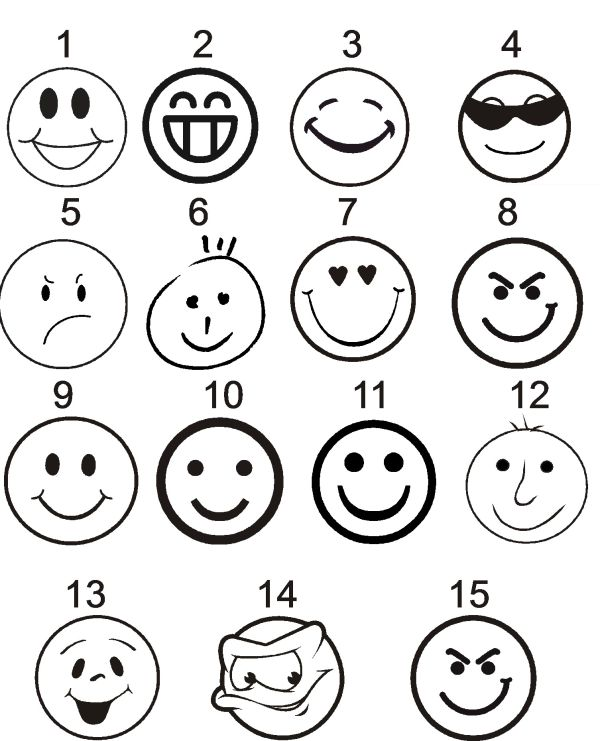feliz: (283, 236, 440, 369), (1, 419, 147, 550), (401, 614, 550, 741), (291, 63, 422, 189), (161, 418, 286, 546), (9, 67, 133, 196), (139, 64, 263, 191), (315, 426, 438, 552), (143, 256, 263, 379), (30, 83, 110, 181), (311, 261, 402, 347), (429, 646, 519, 727), (155, 90, 246, 167), (306, 91, 395, 169), (488, 453, 568, 531), (59, 632, 135, 710), (181, 445, 256, 523), (479, 270, 557, 342), (34, 454, 111, 526), (338, 453, 412, 522), (177, 287, 239, 354)
